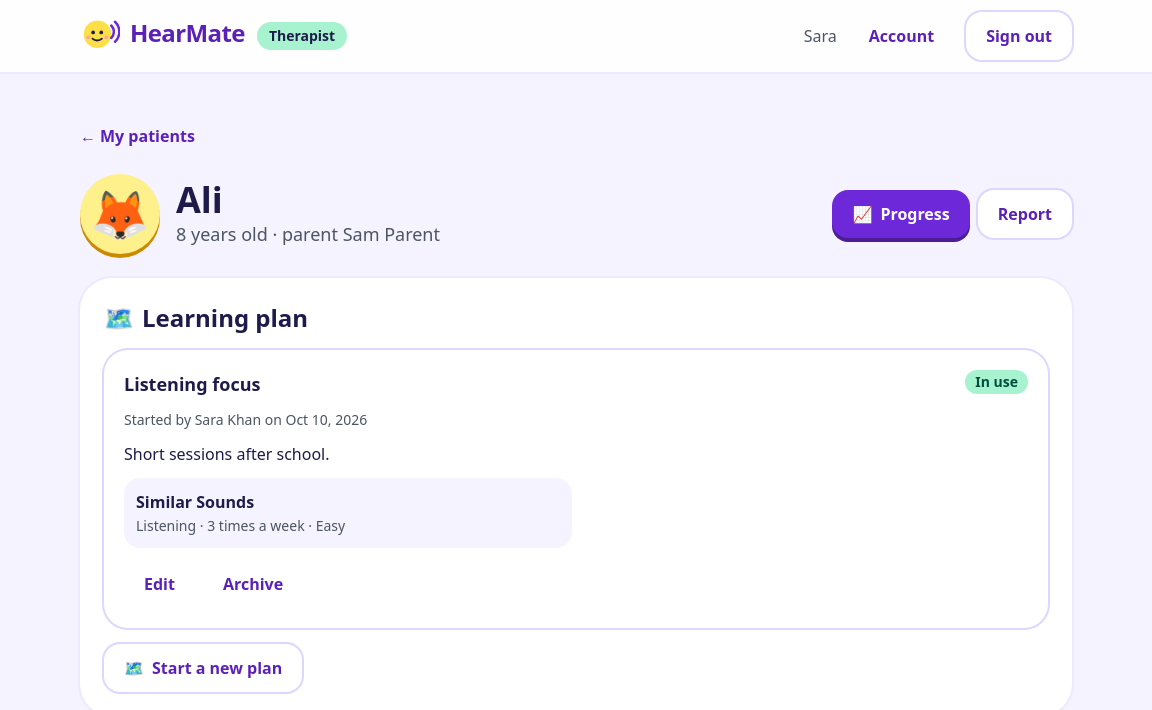
Learning plans › edits the active plan, sending only what changed
Click the button with aria-label "Edit Listening focus".
click(159, 584)  # box [124,560,195,608]
(page scrolled)
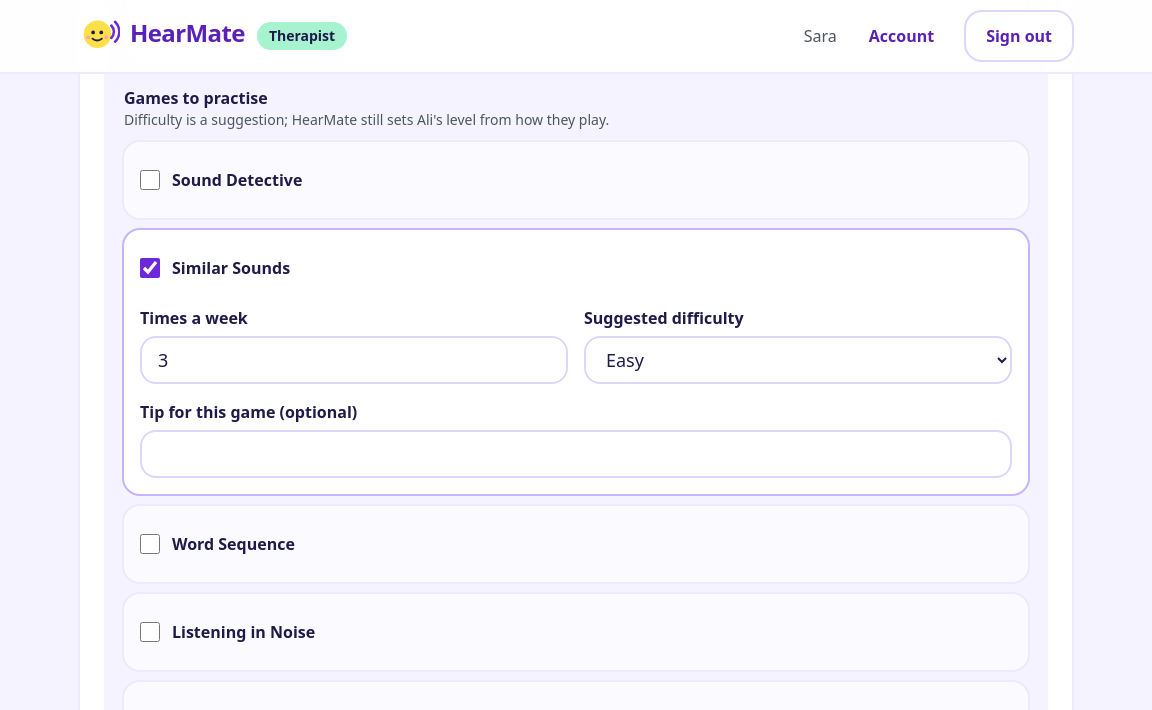
Expected: the number field labelled "Times a week" holds "3"
Replace the text in the number field labelled "Times a week" with "5" at [354, 360], box [140,336,568,384]
(page scrolled)
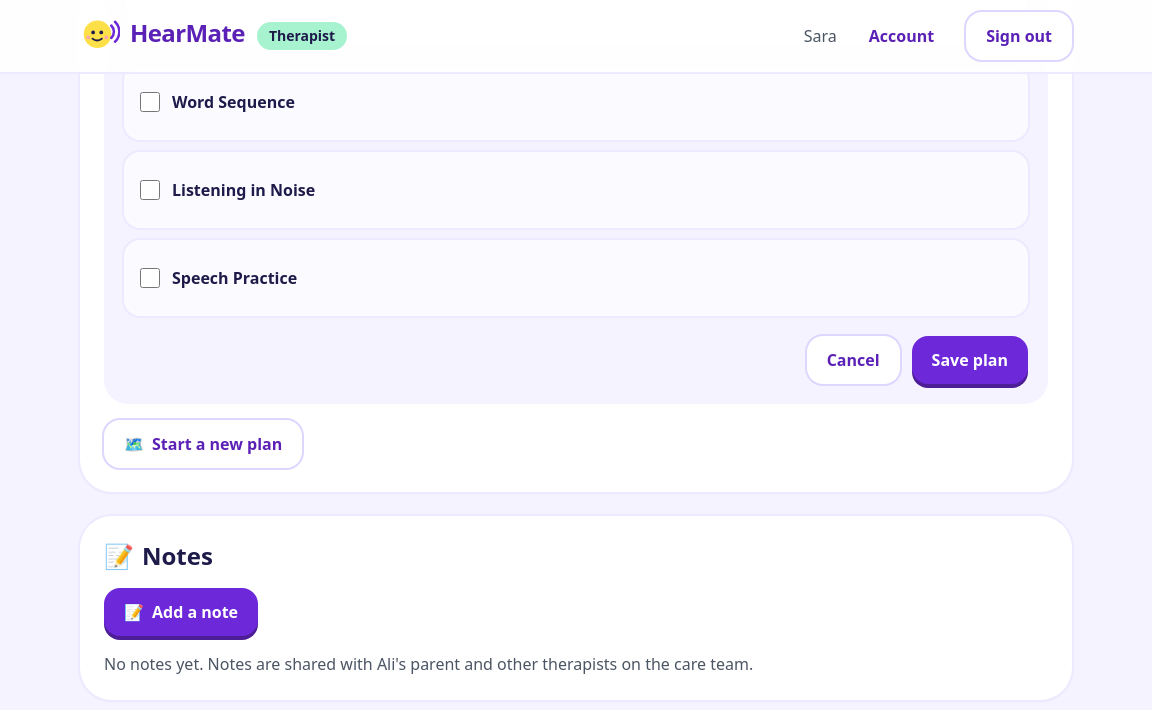
Click the button "Save plan".
click(970, 360)  # box [912,336,1028,384]
(page scrolled)
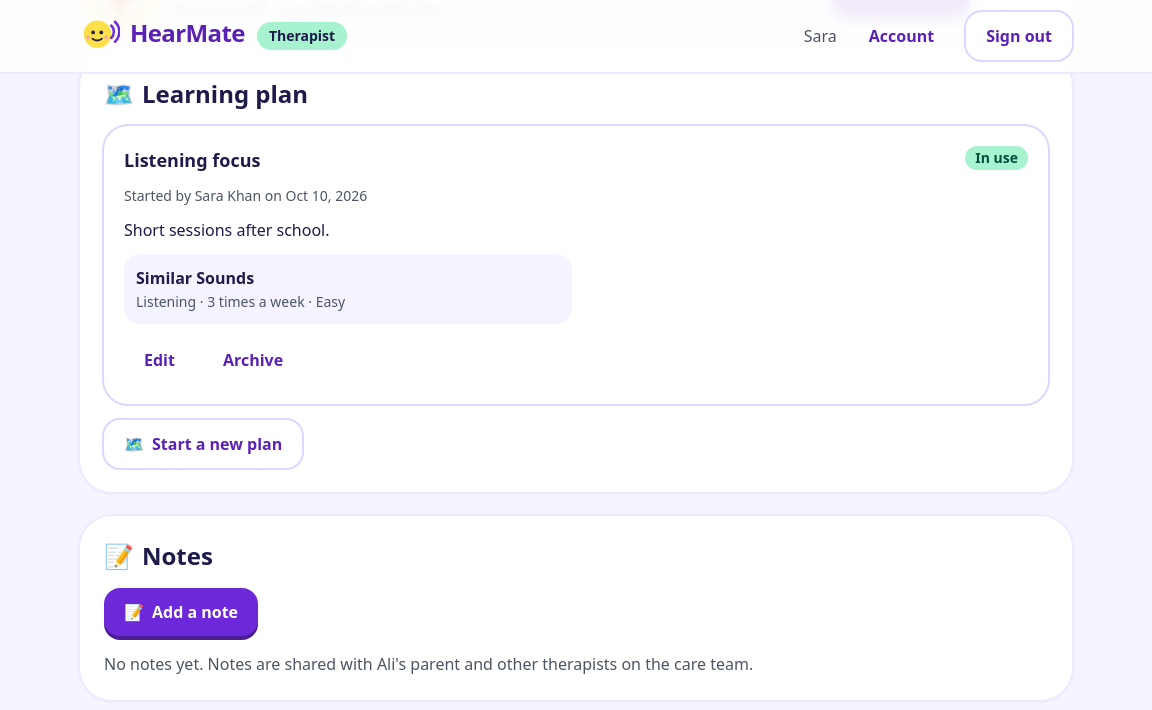
Expected: the button with aria-label "Edit Listening focus" is shown, [124,336,195,384]
